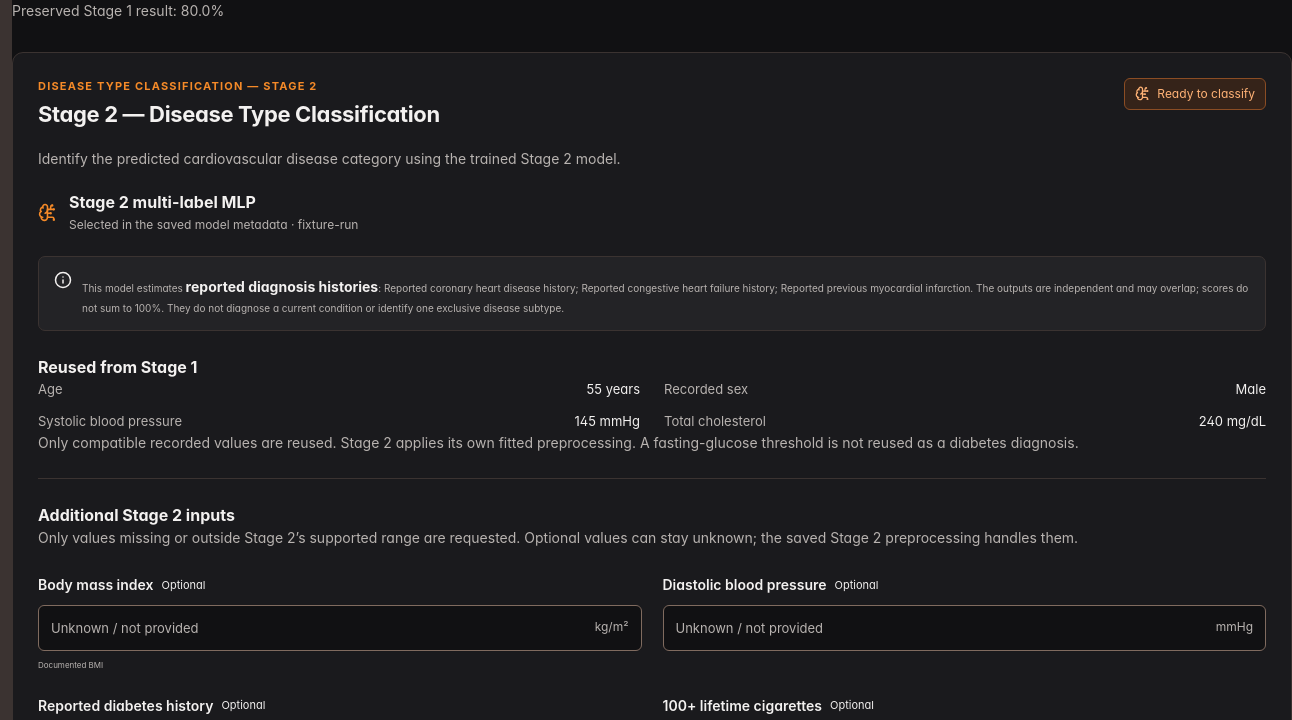
Stage 2 extension › requests only missing inputs, classifies only on click, and shows all independent scores
The width and height of the screenshot is (1292, 720).
Expected: the text "Ready to classify" is shown, [1124,78,1266,110]
Type "28.4" into the number field labelled "Body mass index Optional" at x=340, y=628, box [38,605,642,651]
(page scrolled)
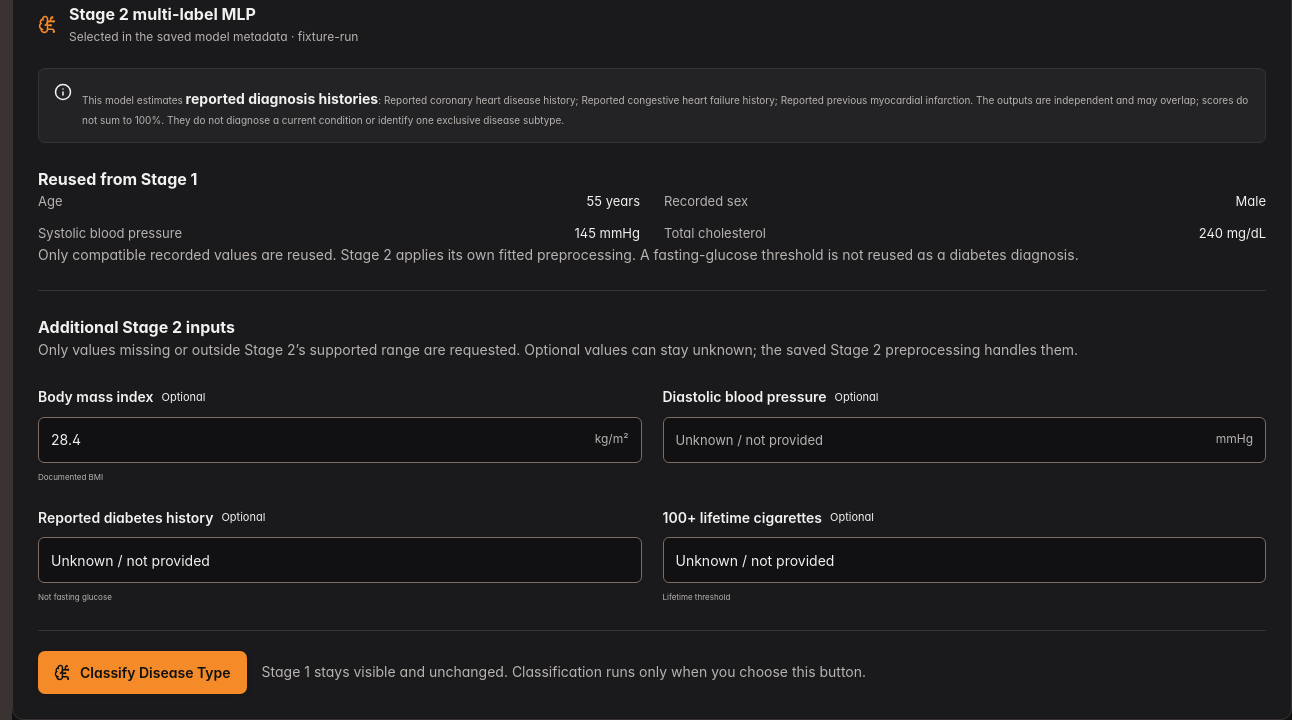
Select "Borderline" in the dropdown labelled "Reported diabetes history Optional" at x=340, y=560, box [38,537,642,583]
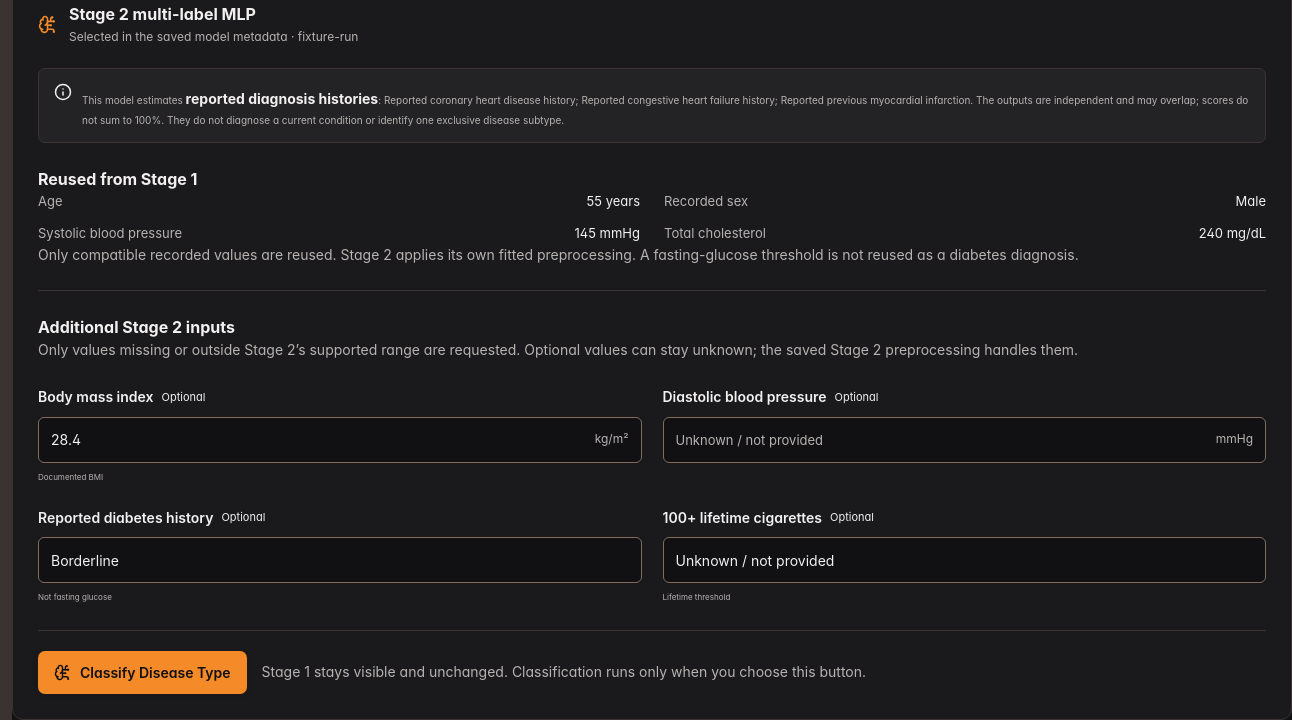
Click the button "Classify Disease Type" at x=142, y=672, box [38,651,247,694]
(page scrolled)
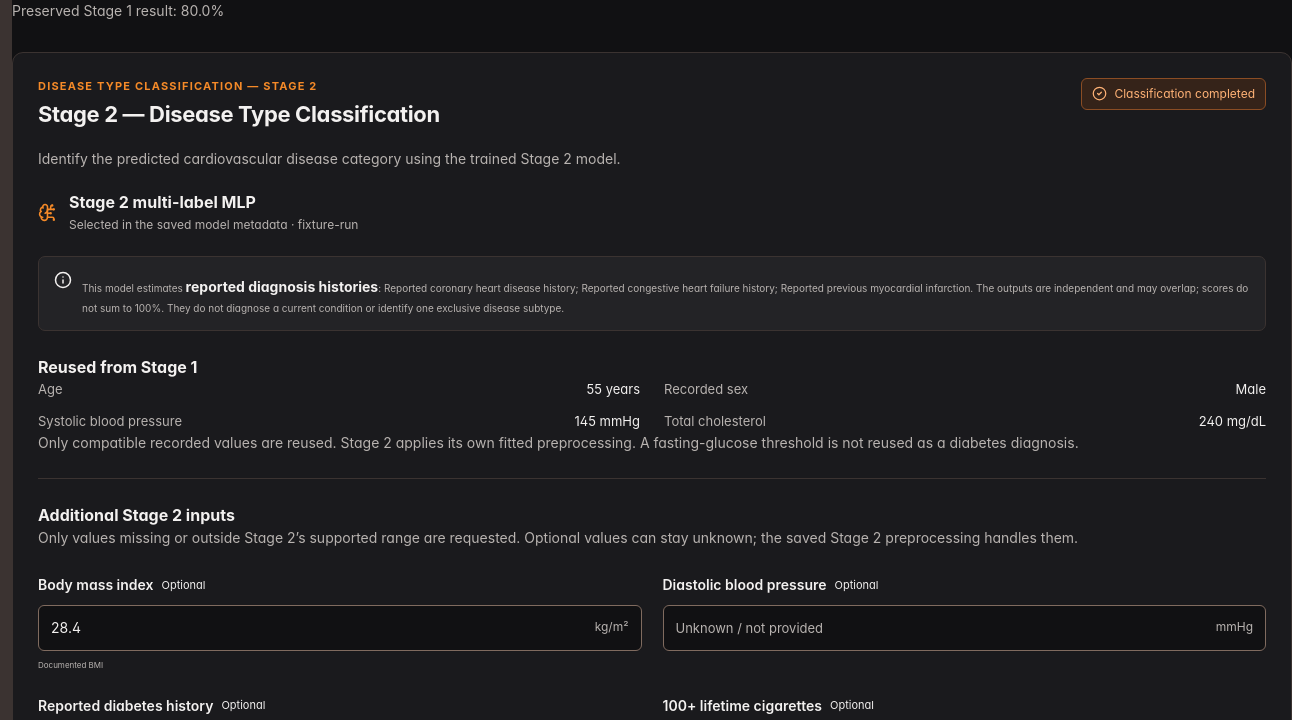
Expected: the text "scores do not sum to 100%" is shown, [82,282,1248,314]
Now the text "Classification completed" is shown, box [1081,78,1266,110]
